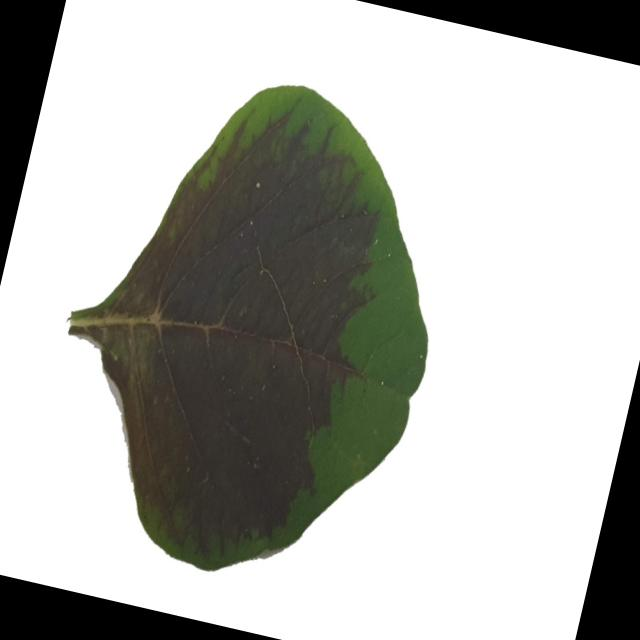Medicinal-Arive Dantu: (19, 40, 482, 615)
